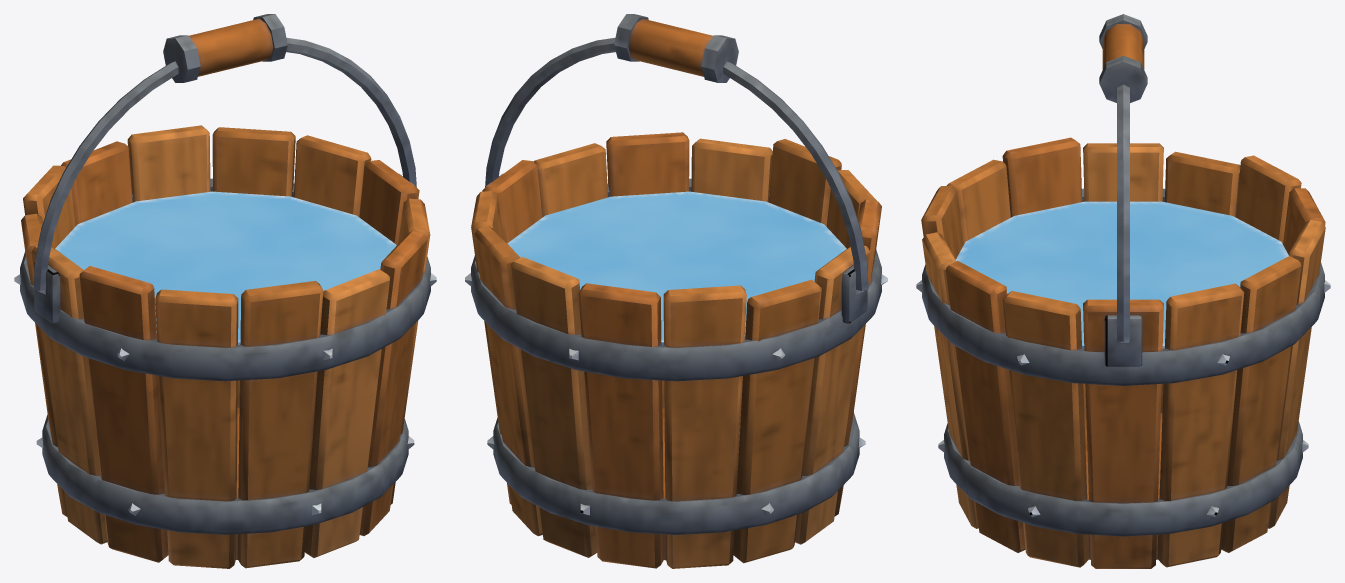
Rendered from Bucket.glb.
The picture shows the model from 3 angles, left to right: view 1: azimuth 30°, elevation 25°; view 2: azimuth 150°, elevation 25°; view 3: azimuth 270°, elevation 25°; orthographic projection. The views are drawn at different scales.
Parts seen in each view (by area): view 1: Bucket, Bucket_Water; view 2: Bucket, Bucket_Water; view 3: Bucket, Bucket_Water.
Part boxes in pixels (x1=…): Bucket: x1=14, y1=14, x2=436, y2=568; Bucket_Water: x1=55, y1=191, x2=396, y2=344; Bucket: x1=465, y1=14, x2=887, y2=568; Bucket_Water: x1=507, y1=191, x2=846, y2=344; Bucket: x1=916, y1=14, x2=1330, y2=568; Bucket_Water: x1=956, y1=201, x2=1288, y2=348.
Size of the model in its own units: 1.69 by 2 by 1.62.
Materials: 1 (1 with a texture image).
